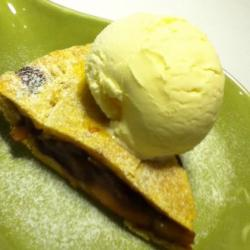apple_pie: (2, 39, 207, 246)
icecream: (82, 9, 226, 175)
